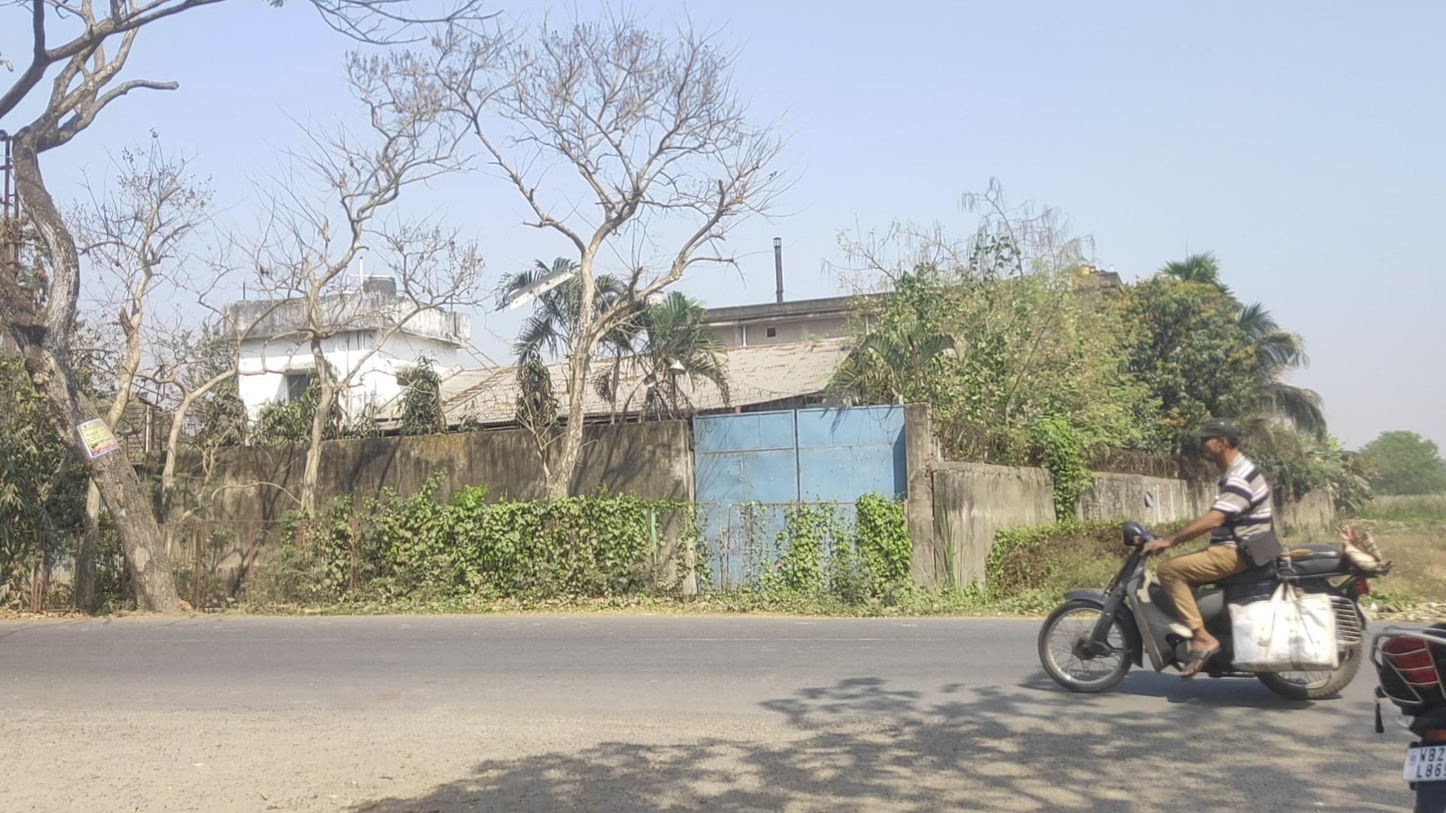bike: (1037, 417, 1393, 700)
